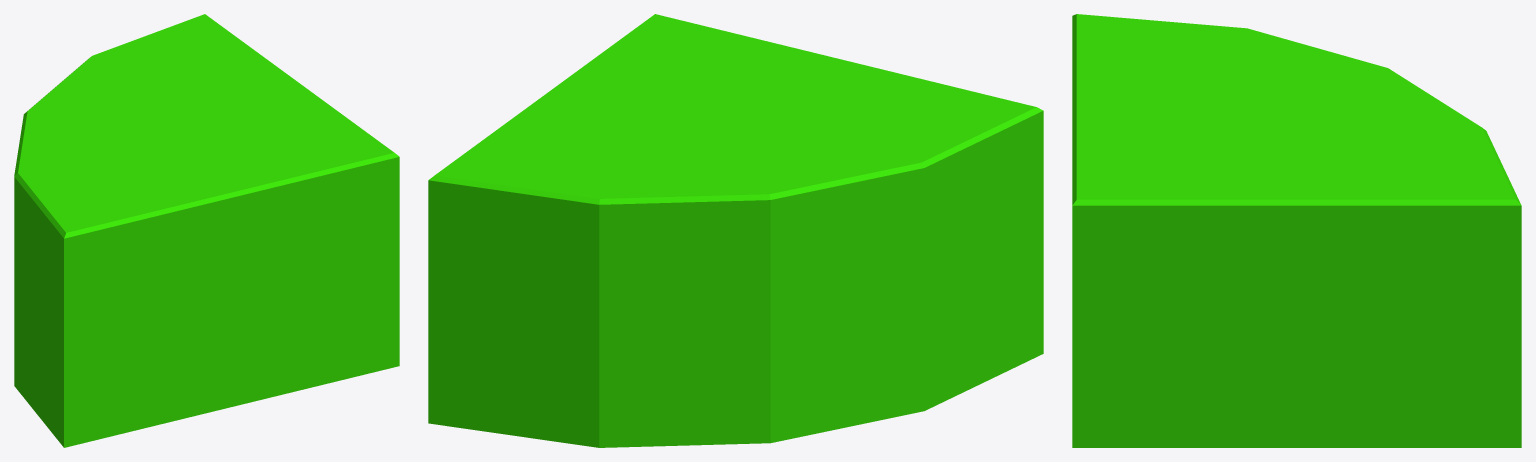
Rendered from round_5x3_02.fbx.
3 views of the same model, side by side, from view 1: azimuth 30°, elevation 25°; view 2: azimuth 150°, elevation 25°; view 3: azimuth 270°, elevation 25° (orthographic). The views are drawn at different scales.
Parts seen in each view (by area): view 1: round_5x3_02; view 2: round_5x3_02; view 3: round_5x3_02.
Boxes of the visible parts, x1,y1,x2,y2 form: round_5x3_02: (14,14,399,447); round_5x3_02: (428,14,1043,447); round_5x3_02: (1072,14,1521,447).
Size of the model in its own units: 512 by 310 by 512.
